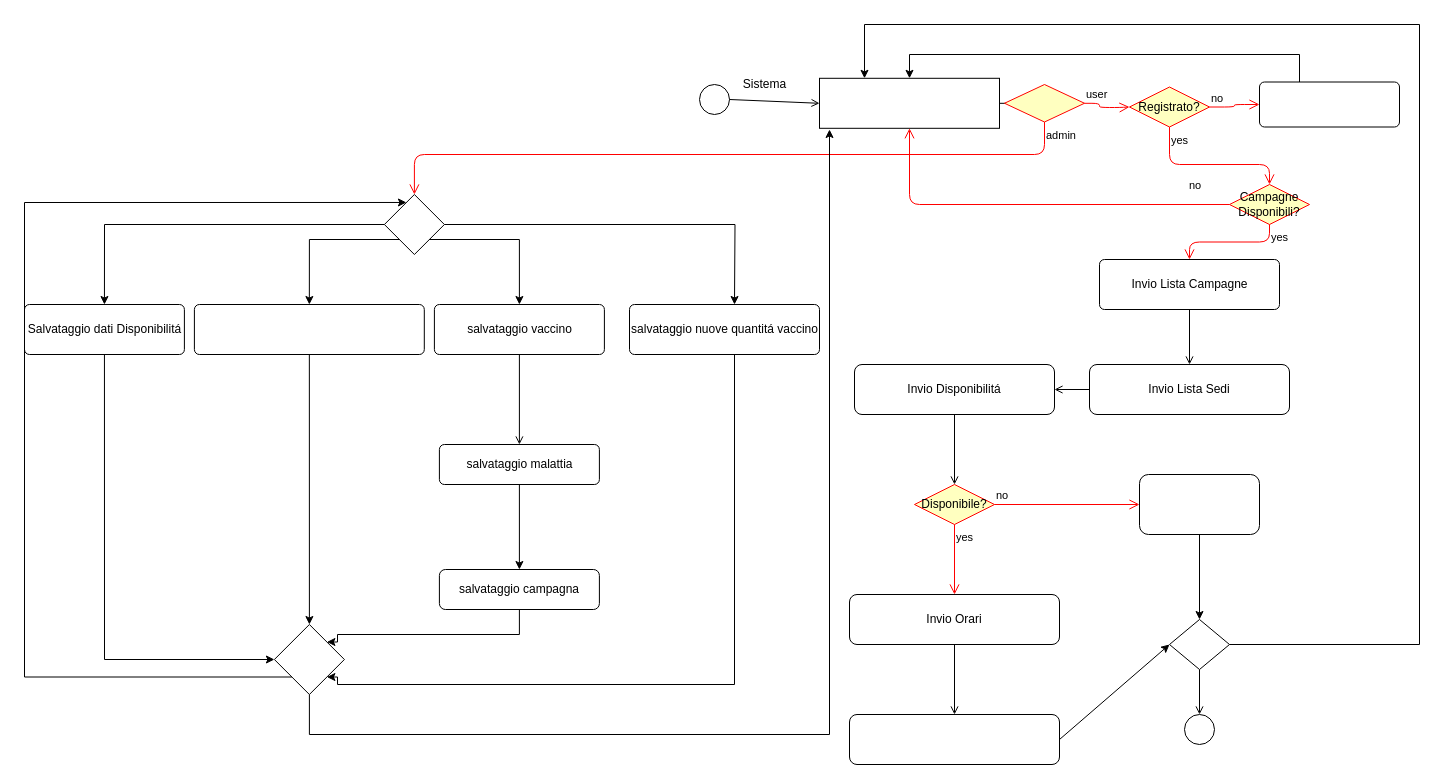
Image size: 1445x782. Some labels were removed from this diagram. Here are the shapes that lost their labels. From the top down, the centre of each, then its label:
[909,102]: Controllo Utente
[1044,103]: Tipo
[1329,104]: Salva Registrazione
[308,329]: Salvataggio associazioni vaccino malattia
[1199,504]: Salvataggio Notifica
[954,739]: Invio dati prenotazione
